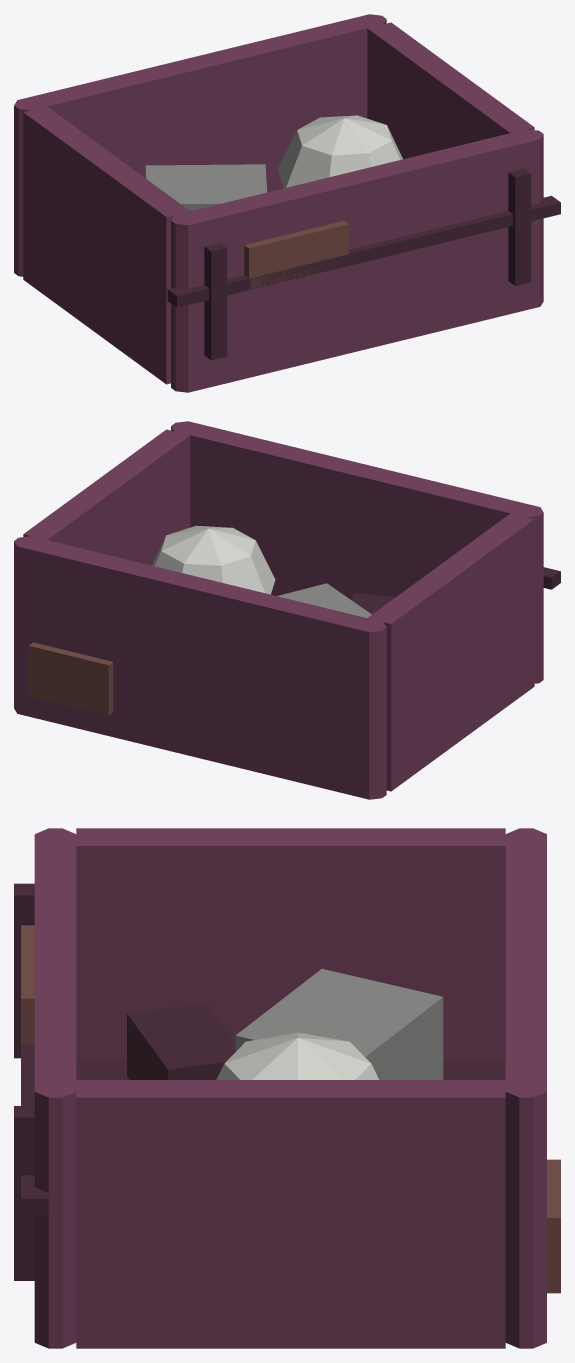
File: ancient_spacer_component_box_open.obj
The picture shows the model from 3 angles, top to bottom: view 1: azimuth 30°, elevation 25°; view 2: azimuth 150°, elevation 25°; view 3: azimuth 270°, elevation 25°; orthographic projection. The views are drawn at different scales.
Parts seen in each view (by area): view 1: ancient_spacer_component_box_open; view 2: ancient_spacer_component_box_open; view 3: ancient_spacer_component_box_open.
Part boxes in pixels (bbox=[...]): ancient_spacer_component_box_open: bbox=[14, 14, 560, 392]; ancient_spacer_component_box_open: bbox=[14, 421, 560, 799]; ancient_spacer_component_box_open: bbox=[14, 828, 560, 1348].
Size of the model in its own units: 0.96 by 0.4 by 0.79.
